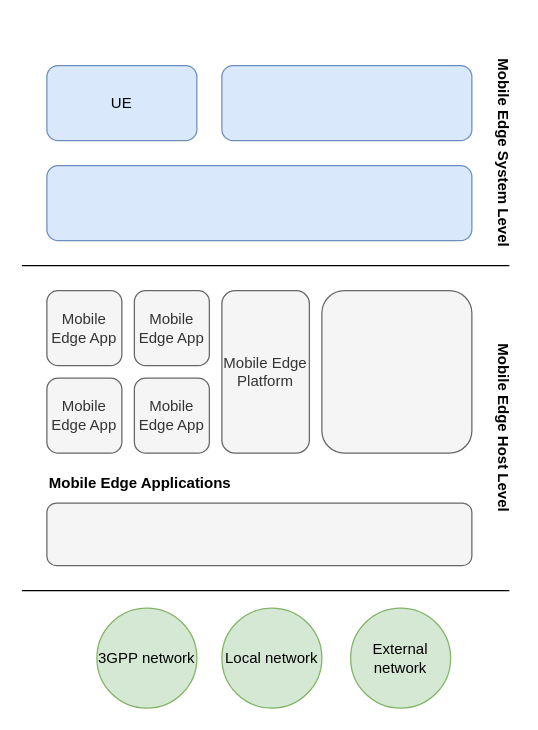
This 538x730 diagram has some shape labels left out. The centre of each missing label's shape, as x and y in pixels:
"Mobile Edge Host Level Management" belongs at point 396,371.
"Mobile Edge Orchestrator" belongs at point 346,102.
"Mobile Edge System Level Management" belongs at point 259,202.
"Virtualization Infrastructure" belongs at point 259,534.
